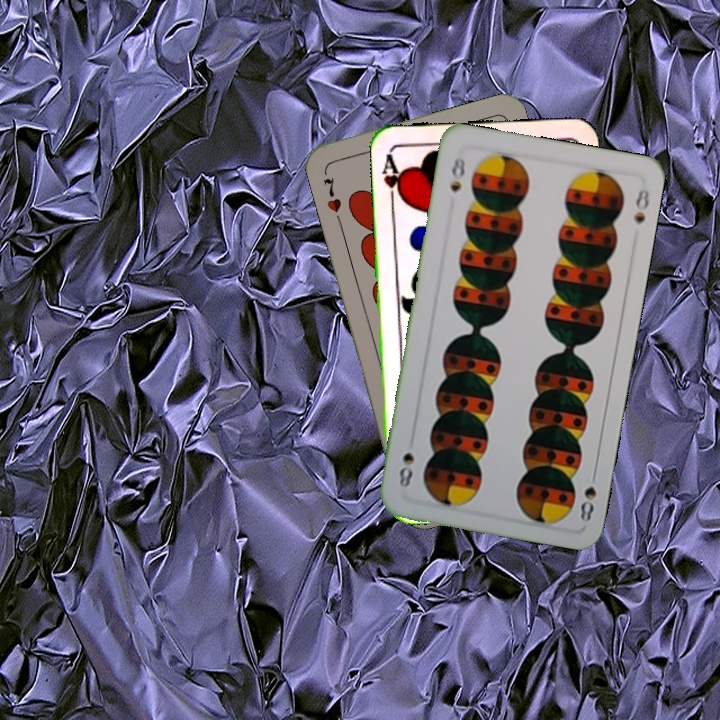H7: (319, 173, 344, 215)
HA: (378, 149, 406, 208)
S8: (576, 466, 599, 525), (446, 153, 468, 195)
